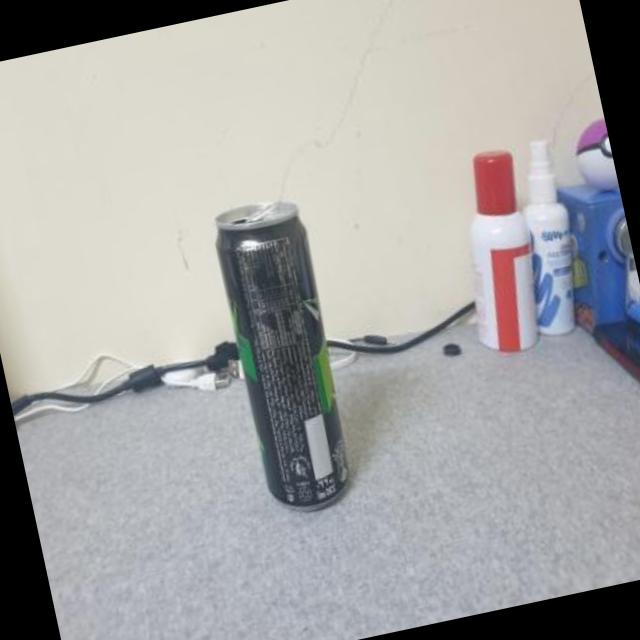metal: (219, 200, 349, 505)
